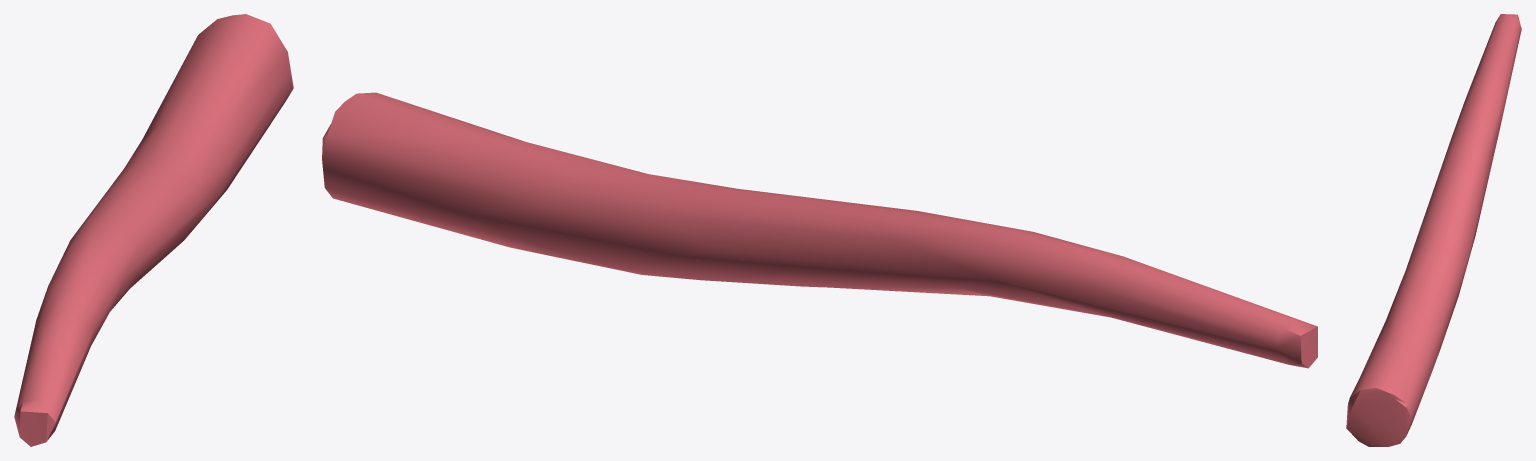
Rendered from fma68690_fj2983.glb.
3 renders of one model, left to right at view 1: azimuth 90°, elevation 25°; view 2: azimuth 150°, elevation 25°; view 3: azimuth 270°, elevation 25°, orthographic. The views are drawn at different scales.
Visible parts, largest first — view 1: FMA68690_FJ2983; view 2: FMA68690_FJ2983; view 3: FMA68690_FJ2983.
Boxes of the visible parts, <box> form: FMA68690_FJ2983: <box>14,14,293,446</box>; FMA68690_FJ2983: <box>322,92,1317,368</box>; FMA68690_FJ2983: <box>1346,14,1521,446</box>.
Bounding box in the file's own units: 0.0536 × 0.0103 × 0.0126.
